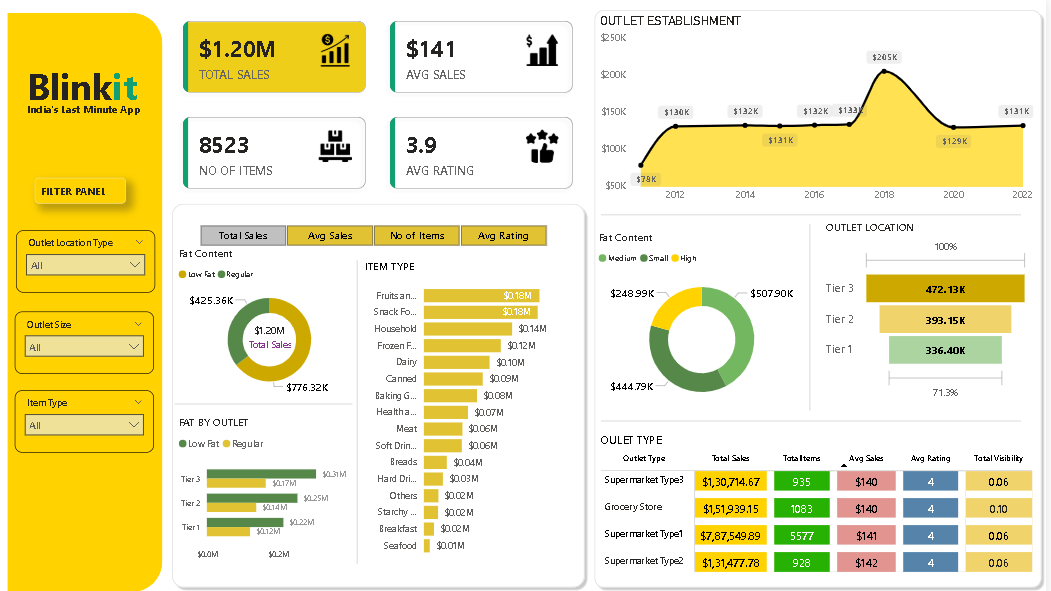

What the dashboard file says about the page in this screenshot:
{"tool":"powerbi","page":{"name":"Page 1","canvas":[1400,800],"ordinal":0},"visuals":[{"type":"shape","box":[14.3,18.6,207.1,772.9],"z":0},{"type":"textbox","box":[36.2,77.5,176.2,87.5],"z":1000},{"type":"textbox","box":[21.2,133.8,191.2,31.2],"z":2000},{"type":"cardVisual","fields":{"Data":["BlinkIT Grocery Data.Total Sales","BlinkIT Grocery Data.Avg Sales","BlinkIT Grocery Data.No of Items","BlinkIT Grocery Data.Avg Rating"]},"box":[228.6,8.6,562.9,267.1],"z":3000},{"type":"shape","box":[228.6,267.1,562.9,524.3],"z":4000},{"type":"donutChart","title":" Fat Content","fields":{"Y":["BlinkIT Grocery Data.Total Sales"],"Category":["BlinkIT Grocery Data.Item Fat Content"]},"box":[238.6,330,252.9,202.9],"z":5000},{"type":"slicer","fields":{"Values":["Metrics.Metrics"]},"box":[247.1,294.3,511.4,40],"z":6000},{"type":"cardVisual","fields":{"Data":["BlinkIT Grocery Data.Total Sales"]},"box":[297.1,407.1,137.1,87.1],"z":7000},{"type":"clusteredBarChart","title":"FAT BY OUTLET","fields":{"Y":["BlinkIT Grocery Data.Total Sales"],"Category":["BlinkIT Grocery Data.Outlet Location Type"],"Series":["BlinkIT Grocery Data.Item Fat Content"]},"box":[238.6,554.3,252.9,202.9],"z":8000},{"type":"shape","box":[238.3,526.7,236.7,26.7],"z":9000},{"type":"shape","box":[466.7,348.3,30,405],"z":10000},{"type":"barChart","title":"ITEM TYPE","fields":{"Y":["BlinkIT Grocery Data.Total Sales"],"Category":["BlinkIT Grocery Data.Item Type"]},"box":[486.4,346.4,285.5,405.5],"z":11000},{"type":"shape","box":[791.4,8.6,608.6,782.9],"z":12000},{"type":"lineChart","title":"OUTLET ESTABLISHMENT","fields":{"Y":["BlinkIT Grocery Data.Total Sales"],"Category":["BlinkIT Grocery Data.Outlet Establishment Year"]},"box":[800,18.6,588.6,261.4],"z":13000},{"type":"shape","box":[807.1,272.9,560,28.6],"z":14000},{"type":"donutChart","title":" Fat Content","fields":{"Y":["BlinkIT Grocery Data.Total Sales"],"Category":["BlinkIT Grocery Data.Outlet Size"]},"box":[798.6,308.6,285.7,245.7],"z":15000},{"type":"shape","box":[1074.3,300,20,248.6],"z":16000},{"type":"funnel","title":"OUTLET LOCATION","fields":{"Y":["Sum(BlinkIT Grocery Data.Sales)"],"Category":["BlinkIT Grocery Data.Outlet Location Type"]},"box":[1101.4,294.3,280,245.7],"z":17000},{"type":"pivotTable","title":"OULET TYPE","fields":{"Values":["BlinkIT Grocery Data.Total Sales","BlinkIT Grocery Data.No of Items","BlinkIT Grocery Data.Avg Sales","BlinkIT Grocery Data.Avg Rating","Avg(BlinkIT Grocery Data.Item Visibility)"],"Rows":["BlinkIT Grocery Data.Outlet Type"]},"box":[801.4,577.1,587.1,198.6],"z":18000},{"type":"shape","box":[807.1,548.6,560,28.6],"z":19000},{"type":"slicer","fields":{"Values":["BlinkIT Grocery Data.Outlet Location Type"]},"box":[27.1,308.6,185.7,82.9],"z":20000},{"type":"slicer","fields":{"Values":["BlinkIT Grocery Data.Outlet Size"]},"box":[25.7,417.1,185.7,82.9],"z":21000},{"type":"slicer","fields":{"Values":["BlinkIT Grocery Data.Item Type"]},"box":[25.7,521.4,185.7,82.9],"z":22000},{"type":"textbox","box":[51.4,238.6,121.4,34.3],"z":22001}]}

Visuals, with their boxes in screenshot pixels (x1, y1, x2, y2), scaled from the page's 1400x800 canvas onto the 1051x591 screenshot:
shape: Rect(11, 14, 166, 585)
textbox: Rect(27, 57, 159, 122)
textbox: Rect(16, 99, 159, 122)
cardVisual - BlinkIT Grocery Data.Total Sales x BlinkIT Grocery Data.Avg Sales: Rect(172, 6, 594, 204)
shape: Rect(172, 197, 594, 585)
" Fat Content" donutChart: Rect(179, 244, 369, 394)
slicer - Metrics.Metrics: Rect(186, 217, 569, 247)
cardVisual - BlinkIT Grocery Data.Total Sales: Rect(223, 301, 326, 365)
"FAT BY OUTLET" clusteredBarChart: Rect(179, 409, 369, 559)
shape: Rect(179, 389, 357, 409)
shape: Rect(350, 257, 373, 557)
"ITEM TYPE" barChart: Rect(365, 256, 579, 555)
shape: Rect(594, 6, 1050, 585)
"OUTLET ESTABLISHMENT" lineChart: Rect(601, 14, 1042, 207)
shape: Rect(606, 202, 1026, 223)
" Fat Content" donutChart: Rect(600, 228, 814, 409)
shape: Rect(806, 222, 822, 405)
"OUTLET LOCATION" funnel: Rect(827, 217, 1037, 399)
"OULET TYPE" pivotTable: Rect(602, 426, 1042, 573)
shape: Rect(606, 405, 1026, 426)
slicer - BlinkIT Grocery Data.Outlet Location Type: Rect(20, 228, 160, 289)
slicer - BlinkIT Grocery Data.Outlet Size: Rect(19, 308, 159, 369)
slicer - BlinkIT Grocery Data.Item Type: Rect(19, 385, 159, 446)
textbox: Rect(39, 176, 130, 202)
